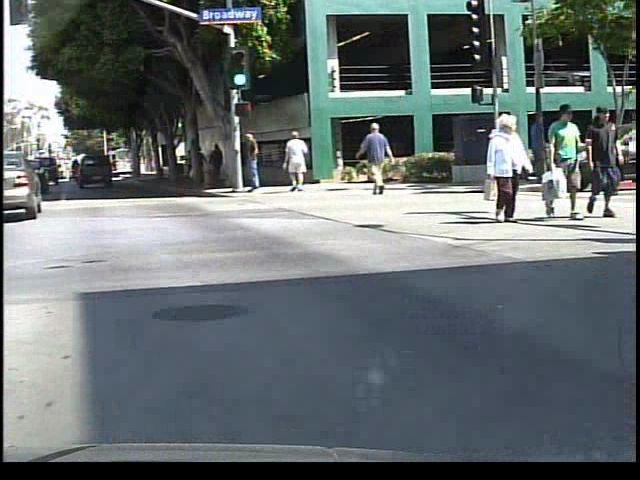person: (485, 112, 539, 227), (547, 101, 585, 221), (586, 103, 624, 218), (359, 121, 400, 194), (526, 108, 556, 184), (251, 124, 279, 201), (287, 127, 316, 194), (211, 138, 232, 189), (199, 144, 214, 188)
